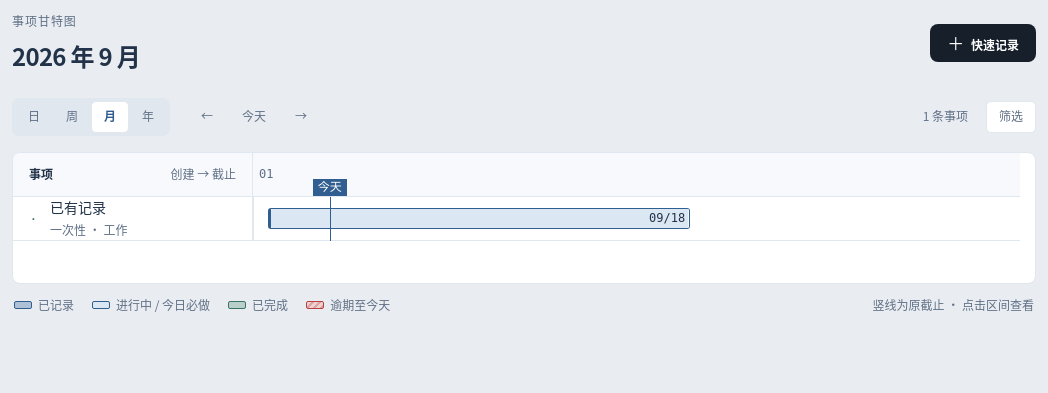
Test case: TimelineView › 刷新失败保留旧区间及真实月份，不能把旧结果标成新月份
The image size is (1048, 393).
Expected: the text "已有记录" is shown, [50, 197, 106, 217]
Step 1. Click the button named "下一段时间" → (301, 117), box [282, 101, 320, 133]
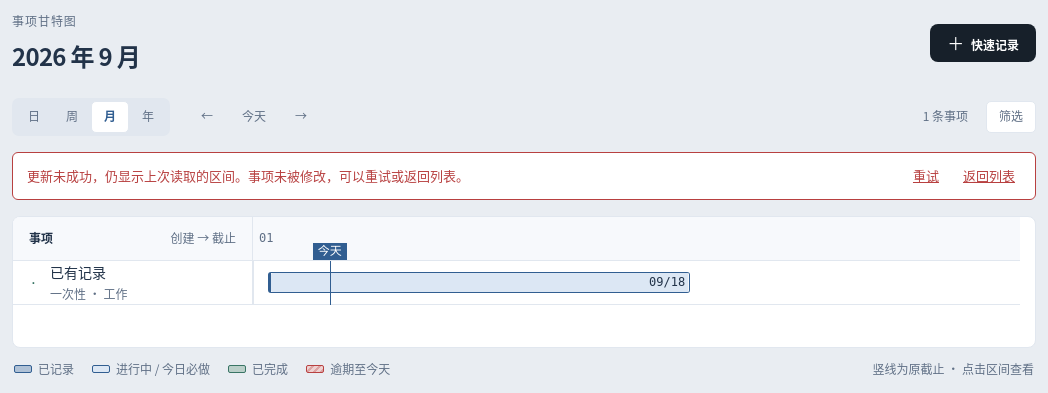
Expected: the heading "2026 年 9 月" is shown, [12, 37, 140, 74]
Expected: the text "更新未成功，仍显示上次读取的区间。事项未被修改，可以重试或返回列表。" is shown, [27, 166, 469, 185]
